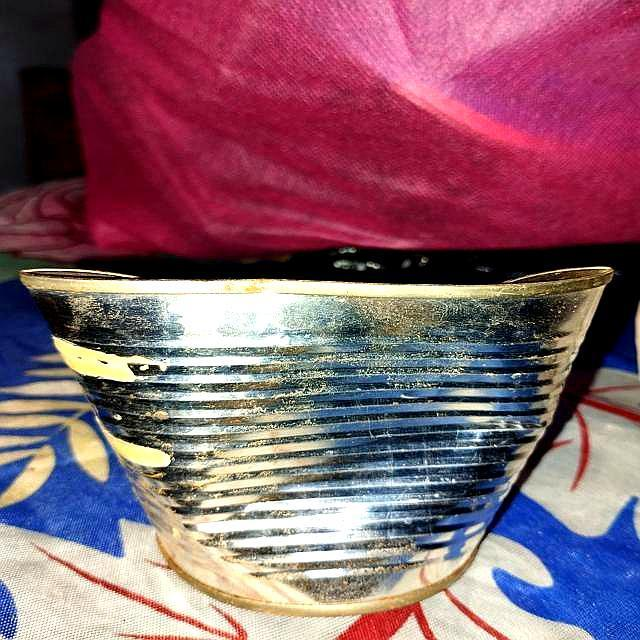Non-biodegradable: (18, 261, 617, 618)
